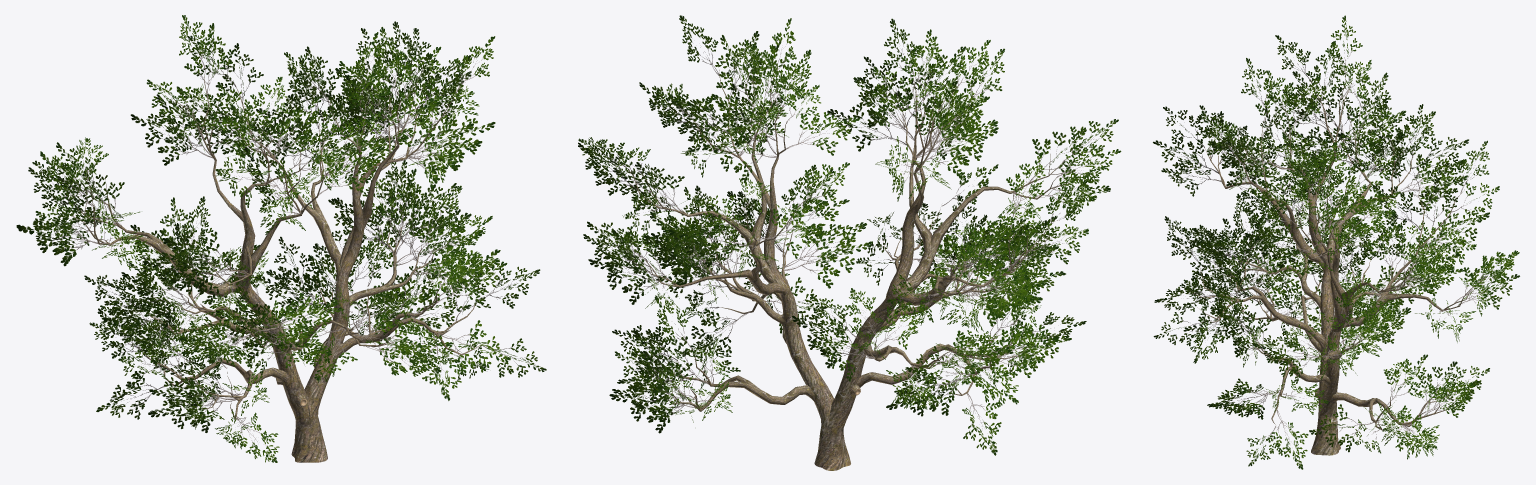
File: Oakeighty.obj
The picture shows the model from 3 angles, left to right: view 1: azimuth 30°, elevation 25°; view 2: azimuth 150°, elevation 25°; view 3: azimuth 270°, elevation 25°; orthographic projection. The views are drawn at different scales.
Parts seen in each view (by area): view 1: oak leaf, mossybark02; view 2: oak leaf, mossybark02; view 3: oak leaf, mossybark02.
Part boxes in pixels (x1,y1,x2,y2): oak leaf: [16, 15, 546, 462]; mossybark02: [63, 62, 480, 462]; oak leaf: [578, 15, 1121, 455]; mossybark02: [624, 67, 1068, 470]; oak leaf: [1153, 15, 1519, 469]; mossybark02: [1188, 72, 1473, 455].
Size of the model in its own units: 1029 by 958 by 829.
Materials: 3 (3 with a texture image).
